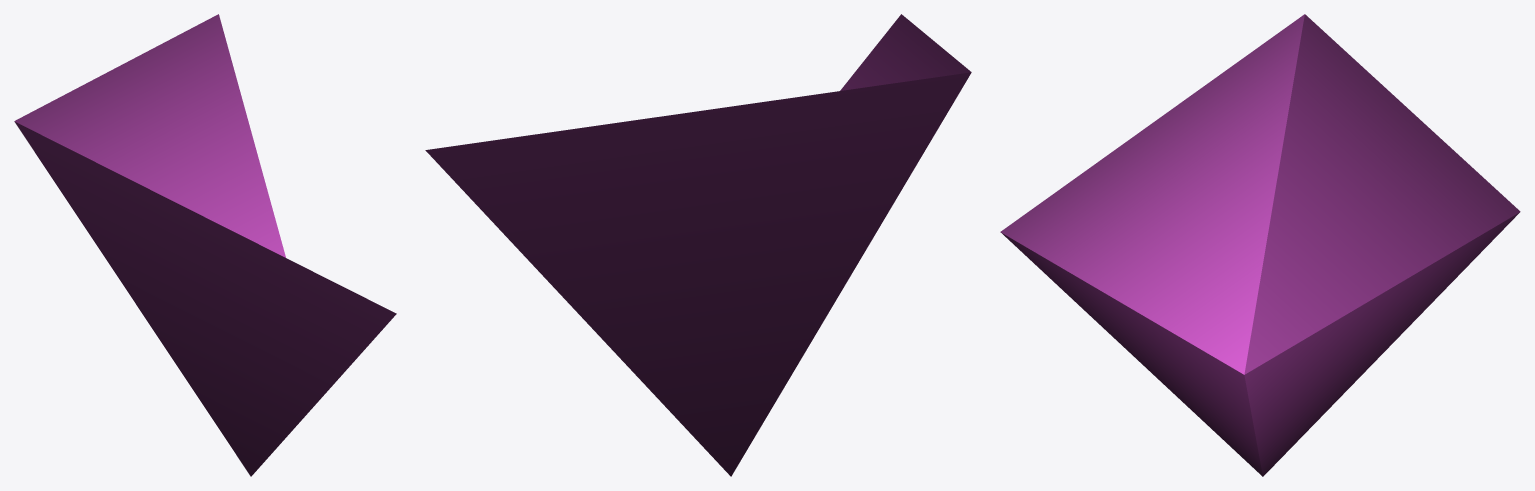
Rendered from c_flower_bell_aa.fbx.
The picture shows the model from 3 angles, left to right: view 1: azimuth 30°, elevation 25°; view 2: azimuth 150°, elevation 25°; view 3: azimuth 270°, elevation 25°; orthographic projection. The views are drawn at different scales.
Parts seen in each view (by area): view 1: c_flower_bell_aa; view 2: c_flower_bell_aa; view 3: c_flower_bell_aa.
Boxes of the visible parts, left/top/right/bottom form: c_flower_bell_aa: left=14, top=14, right=396, bottom=476; c_flower_bell_aa: left=425, top=14, right=971, bottom=476; c_flower_bell_aa: left=1000, top=14, right=1520, bottom=476.
Bounding box in the file's own units: 0.1163 × 0.1359 × 0.1754.
